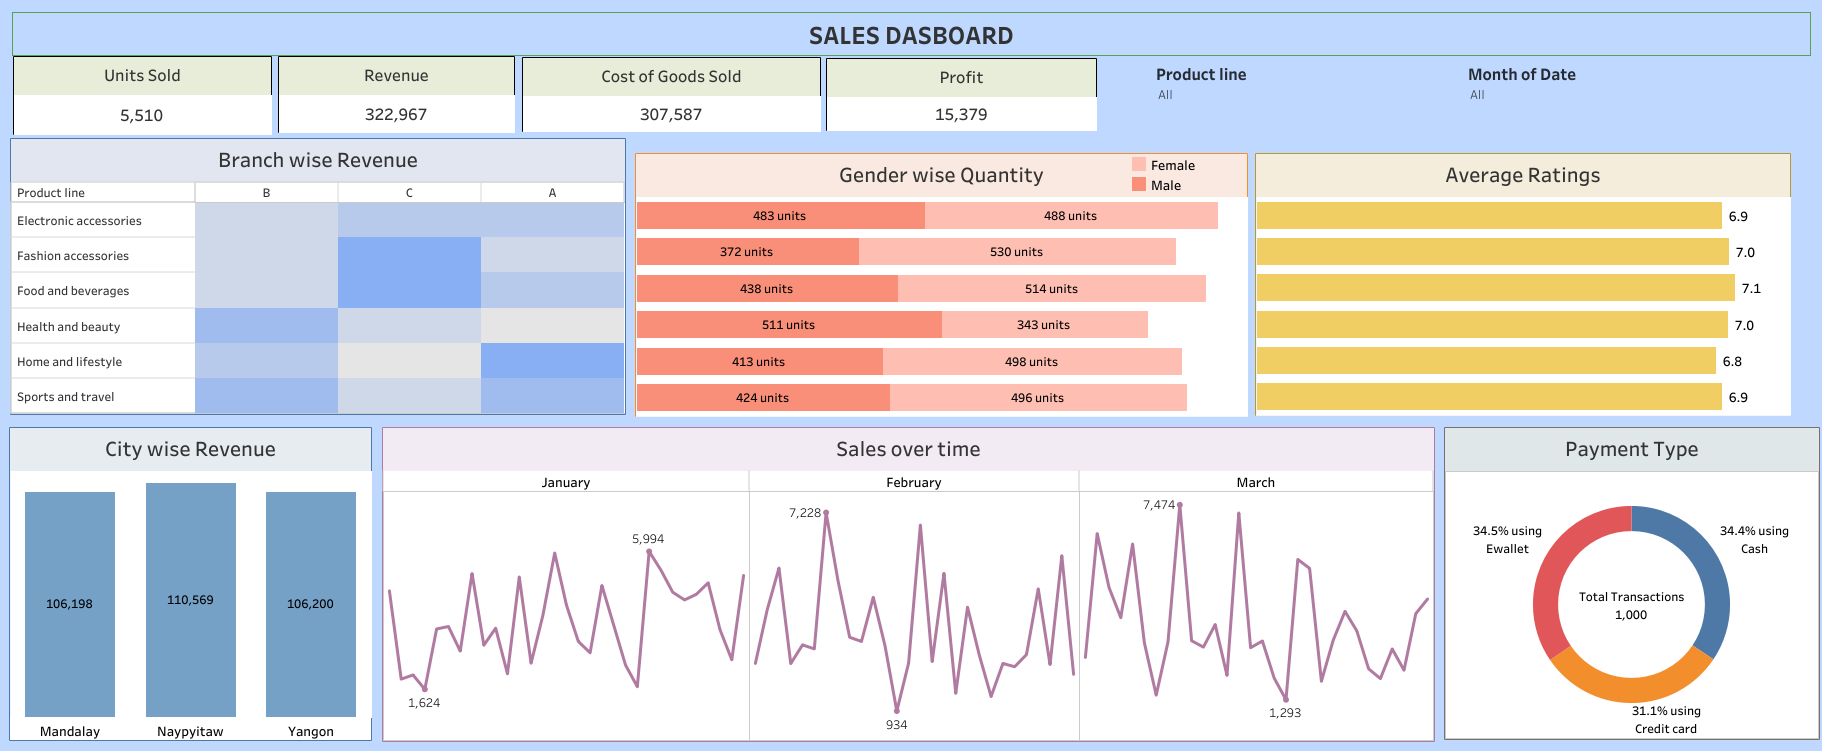

The page's visual inventory and layout, read from the dashboard file:
{"tool":"tableau","page":{"name":"SALES DASBOARD","canvas":[1000,1000],"units":"permille","ordinal":0},"visuals":[{"type":"title","box":[4.9,10,990.2,65.2]},{"type":"worksheet","title":"Quantity KPI","mark":"Automatic","box":[7.3,74,142,105.4]},{"type":"worksheet","title":"Revenue KPI","mark":"Automatic","box":[152.4,74,130.3,102.9]},{"type":"worksheet","title":"Cogs KPI","mark":"Automatic","box":[286.4,75.3,164,100.4]},{"type":"worksheet","title":"Gross Margin KPI","mark":"Automatic","box":[452.9,77.8,148.7,96.6]},{"type":"filter","title":"Average Ratings","param":"[federated.0mo5idv0bdxr3l1g56imx1k76q2i].[none:Product line:nk]","box":[634,81.6,167.7,82.8]},{"type":"filter","title":"Branch wise Revenue","param":"[federated.0mo5idv0bdxr3l1g56imx1k76q2i].[mn:Date:ok]","box":[805.4,81.6,178.7,77.8]},{"type":"worksheet","title":"Branch wise Revenue","mark":"Automatic","rows":["Product line"],"cols":["Branch"],"box":[5.5,183.2,337.8,368.9]},{"type":"worksheet","title":"Gender wise Quantity","mark":"Automatic","rows":["Product line"],"cols":["Quantity"],"box":[348.2,203.3,336.6,351.3]},{"type":"worksheet","title":"Average Ratings","mark":"Automatic","rows":["Product line"],"cols":["Rating"],"box":[688.5,203.3,293.8,350.1]},{"type":"legend","title":"Gender wise Quantity","param":"[federated.0mo5idv0bdxr3l1g56imx1k76q2i].[none:Gender:nk]","box":[619.3,204.5,66.1,64]},{"type":"worksheet","title":"City wise Revenue","mark":"Automatic","rows":["Total"],"cols":["City"],"box":[4.9,568.4,198.9,416.6]},{"type":"worksheet","title":"Sales over time","mark":"Automatic","rows":["Total"],"cols":["Date","Date"],"box":[209.3,568.4,577.7,417.8]},{"type":"worksheet","title":"Payment Type","mark":"Pie","rows":["Calculation_1413285867317301251","Calculation_1413285867317301251"],"box":[791.9,568.4,206.2,415.3]}]}

Visuals, with their boxes on the dashboard's canvas, which has no fixed pixel size, in thousandths of its width and height (x1, y1, x2, y2). These are canvas units, not pixel positions in the 1822x751 screenshot, which may show the page scaled, cropped or inside an application window:
title: box=[5, 10, 995, 75]
"Quantity KPI" worksheet: box=[7, 74, 149, 179]
"Revenue KPI" worksheet: box=[152, 74, 283, 177]
"Cogs KPI" worksheet: box=[286, 75, 450, 176]
"Gross Margin KPI" worksheet: box=[453, 78, 602, 174]
"Average Ratings" filter: box=[634, 82, 802, 164]
"Branch wise Revenue" filter: box=[805, 82, 984, 159]
"Branch wise Revenue" worksheet: box=[6, 183, 343, 552]
"Gender wise Quantity" worksheet: box=[348, 203, 685, 555]
"Average Ratings" worksheet: box=[688, 203, 982, 553]
"Gender wise Quantity" legend: box=[619, 204, 685, 268]
"City wise Revenue" worksheet: box=[5, 568, 204, 985]
"Sales over time" worksheet: box=[209, 568, 787, 986]
"Payment Type" worksheet (Pie marks): box=[792, 568, 998, 984]
